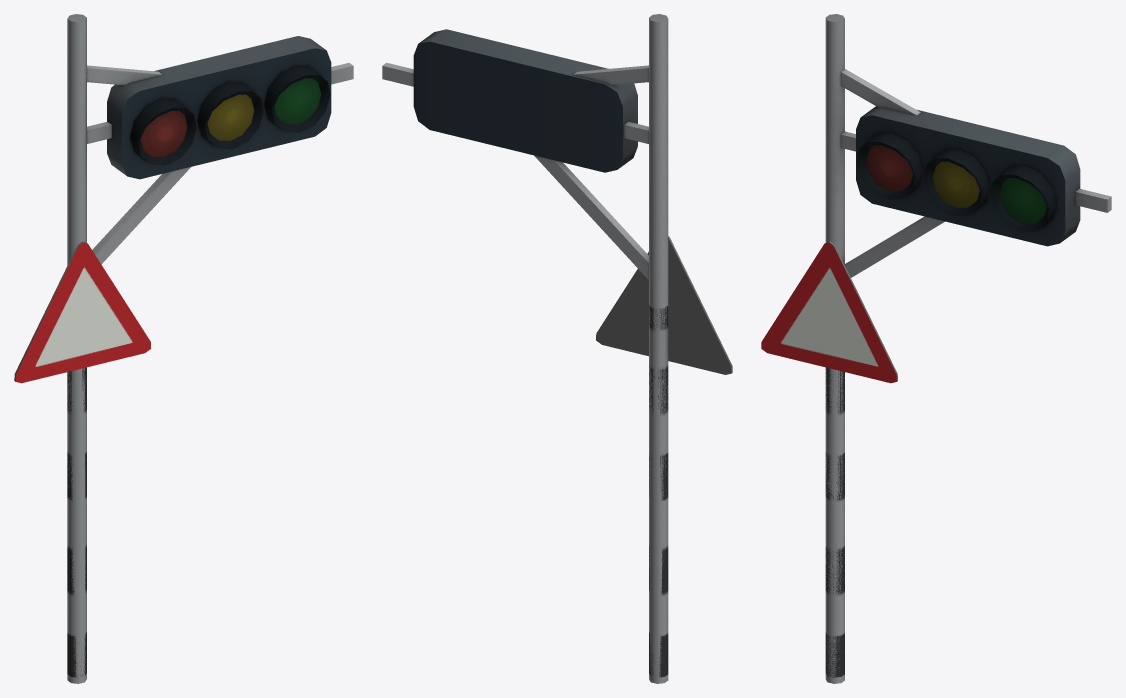
Rendered from road_props.fbx.
3 views of the same model, side by side, from view 1: azimuth 30°, elevation 25°; view 2: azimuth 150°, elevation 25°; view 3: azimuth 330°, elevation 25° (orthographic).
Parts seen in each view (by area): view 1: trafficSignal_light, trafficSignal, trafficSignal_light_green, trafficSignal_light_yellow, trafficSignal_light_red; view 2: trafficSignal_light, trafficSignal; view 3: trafficSignal_light, trafficSignal, trafficSignal_light_yellow, trafficSignal_light_green, trafficSignal_light_red.
Boxes of the visible parts, x1,y1,x2,y2 form: trafficSignal_light: (67, 14, 353, 683); trafficSignal: (14, 241, 151, 677); trafficSignal_light_green: (274, 78, 321, 124); trafficSignal_light_yellow: (207, 94, 254, 140); trafficSignal_light_red: (140, 110, 187, 157); trafficSignal_light: (382, 14, 668, 683); trafficSignal: (596, 236, 732, 677); trafficSignal_light: (825, 14, 1111, 683); trafficSignal: (761, 241, 897, 677); trafficSignal_light_yellow: (933, 161, 979, 207); trafficSignal_light_green: (999, 178, 1046, 224); trafficSignal_light_red: (866, 145, 912, 191).
Size of the model in its own units: 2.85 by 5.27 by 0.4165.
